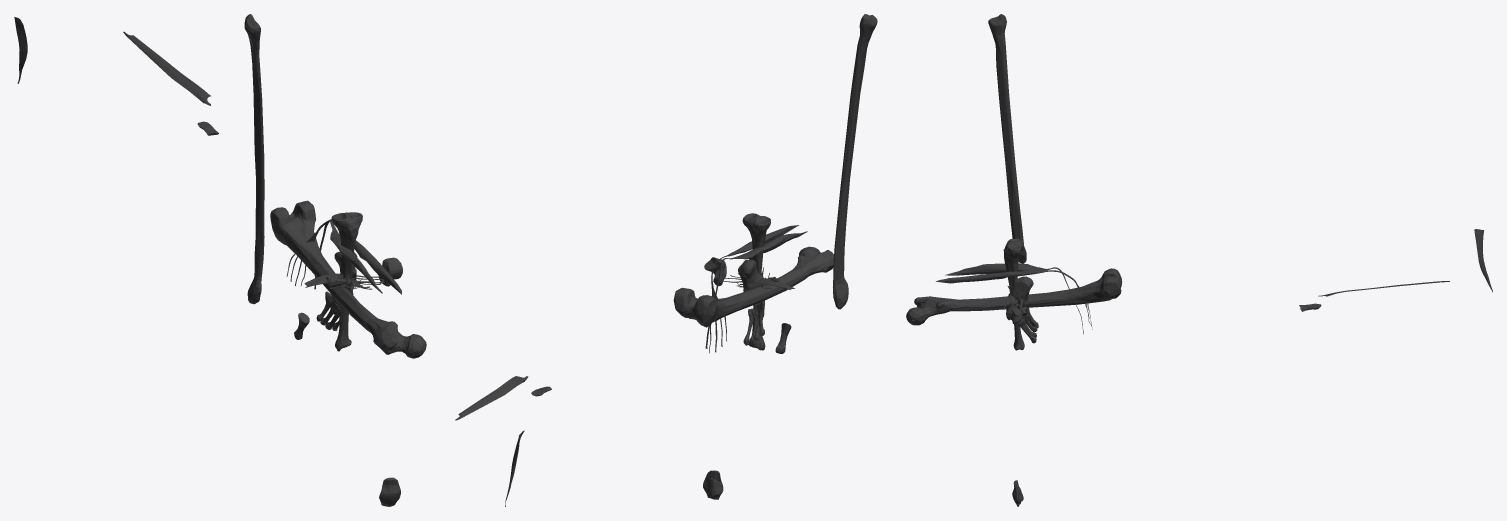
Rendered from sharedassets3.glb.
3 renders of one model, left to right at view 1: azimuth 30°, elevation 25°; view 2: azimuth 150°, elevation 25°; view 3: azimuth 270°, elevation 25°, orthographic. The views are drawn at different scales.
Visible parts, largest first — view 1: 0001_Femur _thigh_, R__000930, 0029_Fibula _leg_, R__000928, 0028_Tibia _leg_, R__000925, 0030_Interosseous membrane of the leg _middle, 0031_Flexor digitorum longus, R__1000166, 0032_Flexor hallucis longus, R__1000172, 0042_Patella _knee cap_, R__000927; view 2: 0001_Femur _thigh_, R__000930, 0029_Fibula _leg_, R__000928, 0028_Tibia _leg_, R__000925, 0031_Flexor digitorum longus, R__1000166, 0032_Flexor hallucis longus, R__1000172, 0030_Interosseous membrane of the leg _middle, 0013_Calcaneus, R__000941, 0042_Patella _knee cap_, R__000927; view 3: 0001_Femur _thigh_, R__000930, 0029_Fibula _leg_, R__000928, 0028_Tibia _leg_, R__000925, 0031_Flexor digitorum longus, R__1000166, 0032_Flexor hallucis longus, R__1000172.
Boxes of the visible parts, x1,y1,x2,y2 form: 0001_Femur _thigh_, R__000930: [270, 200, 426, 358]; 0029_Fibula _leg_, R__000928: [244, 14, 264, 304]; 0028_Tibia _leg_, R__000925: [331, 212, 362, 351]; 0030_Interosseous membrane of the leg _middle: [123, 31, 210, 105]; 0031_Flexor digitorum longus, R__1000166: [286, 219, 401, 294]; 0032_Flexor hallucis longus, R__1000172: [314, 220, 382, 293]; 0042_Patella _knee cap_, R__000927: [379, 477, 400, 506]; 0001_Femur _thigh_, R__000930: [673, 246, 833, 327]; 0029_Fibula _leg_, R__000928: [833, 14, 877, 309]; 0028_Tibia _leg_, R__000925: [742, 213, 770, 350]; 0031_Flexor digitorum longus, R__1000166: [709, 225, 798, 353]; 0032_Flexor hallucis longus, R__1000172: [705, 231, 807, 348]; 0030_Interosseous membrane of the leg _middle: [455, 376, 528, 420]; 0013_Calcaneus, R__000941: [738, 259, 764, 291]; 0042_Patella _knee cap_, R__000927: [703, 470, 723, 499]; 0001_Femur _thigh_, R__000930: [906, 268, 1122, 325]; 0029_Fibula _leg_, R__000928: [988, 14, 1026, 263]; 0028_Tibia _leg_, R__000925: [1003, 238, 1024, 350]; 0031_Flexor digitorum longus, R__1000166: [936, 270, 1092, 329]; 0032_Flexor hallucis longus, R__1000172: [945, 263, 1083, 334].
Bounding box in the file's own units: 0.1823 × 0.5473 × 0.6733.
1 material, 1 textured.
